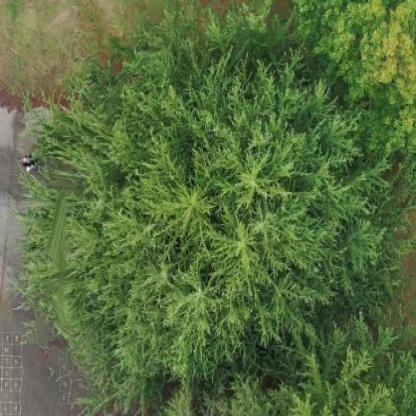Coniferous Tree: (44, 7, 406, 398), (209, 325, 416, 416)
Deciduous Tree: (296, 0, 416, 137)
